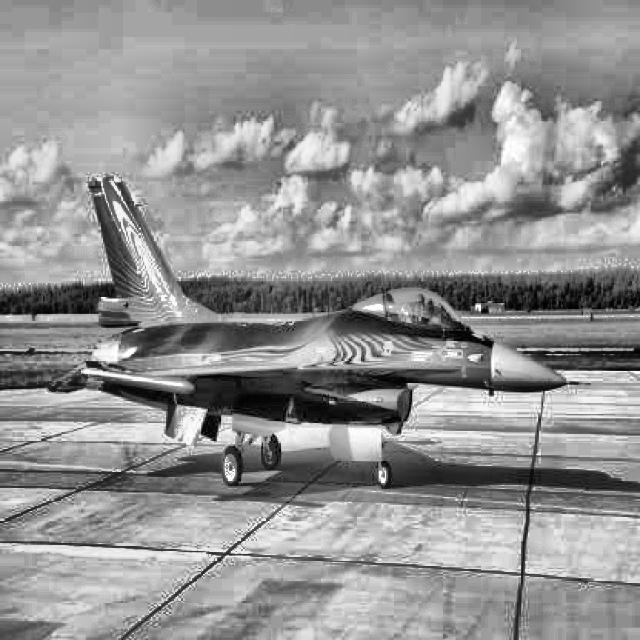F16: (46, 172, 592, 488)
